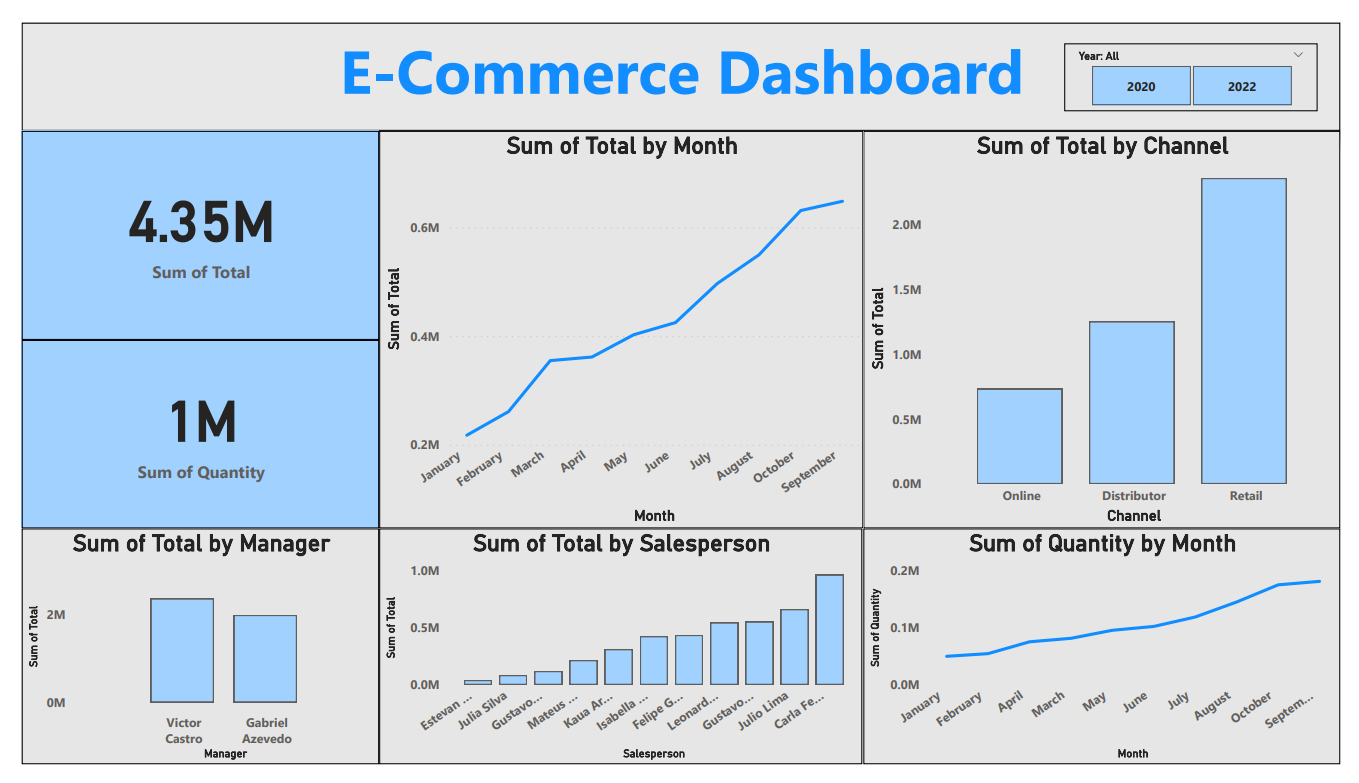

The page's visual inventory and layout, read from the dashboard file:
{"tool":"powerbi","page":{"name":"Page 1","canvas":[1280,720],"ordinal":0},"visuals":[{"type":"textbox","box":[0,0,1279.9,105.1],"z":0},{"type":"cardVisual","fields":{"Data":["Table1.Total"]},"box":[0,105.1,347.2,202.9],"z":1000},{"type":"cardVisual","fields":{"Data":["Table1.Quantity"]},"box":[0,308,347.2,183.4],"z":2000},{"type":"columnChart","fields":{"Category":["Table1.Channel"],"Y":["Table1.Total"]},"box":[816.6,105.1,463.3,386.3],"z":3000},{"type":"lineChart","fields":{"Category":["Table1.Month"],"Y":["Table1.Total"]},"box":[347.2,105.1,469.4,386.3],"z":4000},{"type":"columnChart","fields":{"Category":["Table1.Manager"],"Y":["Table1.Total"]},"box":[0,491.4,347.2,228.6],"z":5000},{"type":"lineChart","fields":{"Category":["Table1.Month"],"Y":["Table1.Quantity"]},"box":[816.6,491.4,463.3,228.6],"z":6000},{"type":"columnChart","fields":{"Category":["Table1.Salesperson"],"Y":["Table1.Total"]},"box":[347,491,469,229],"z":7000},{"type":"slicer","fields":{"Values":["Table1.Year"]},"box":[1012.2,19.6,245.7,66],"z":7001}]}

Visuals, with their boxes in screenshot pixels (x1, y1, x2, y2), scaled from the page's 1280x720 canvas onto the 1359x783 screenshot:
textbox: 0, 0, 1358, 114
cardVisual - Table1.Total: 0, 114, 369, 335
cardVisual - Table1.Quantity: 0, 335, 369, 534
columnChart - Table1.Channel x Table1.Total: 867, 114, 1358, 534
lineChart - Table1.Month x Table1.Total: 369, 114, 867, 534
columnChart - Table1.Manager x Table1.Total: 0, 534, 369, 782
lineChart - Table1.Month x Table1.Quantity: 867, 534, 1358, 782
columnChart - Table1.Salesperson x Table1.Total: 368, 534, 866, 782
slicer - Table1.Year: 1075, 21, 1336, 93
